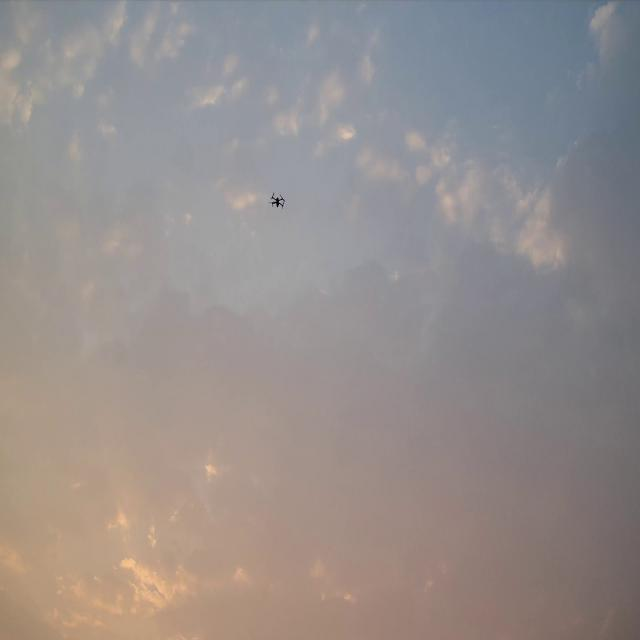UAV: (268, 191, 286, 210)
